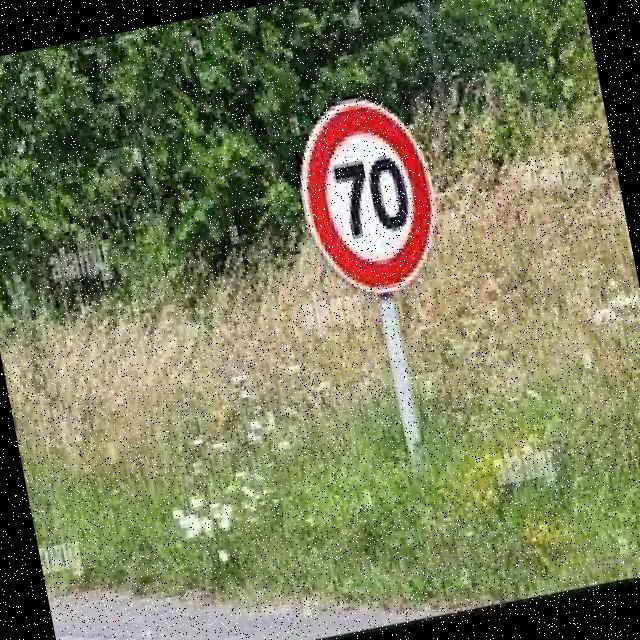speed_limit_70: (277, 78, 452, 307)
